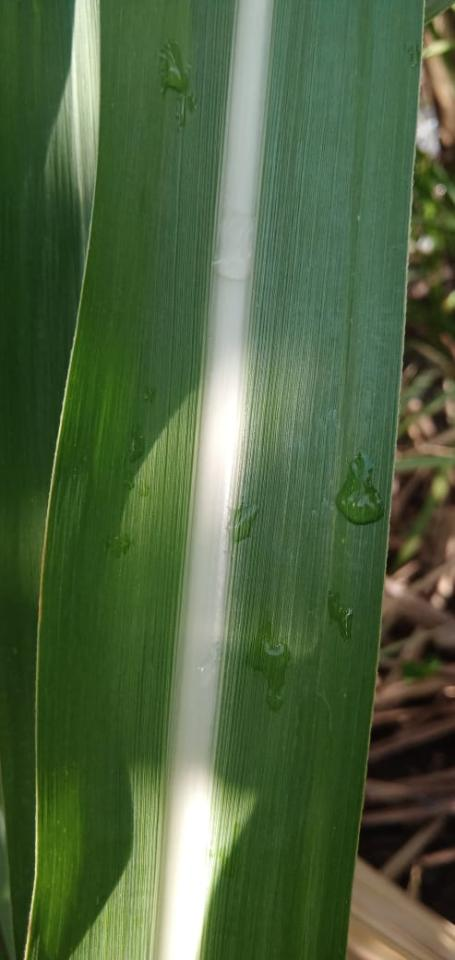Healthy: (0, 0, 427, 959)
